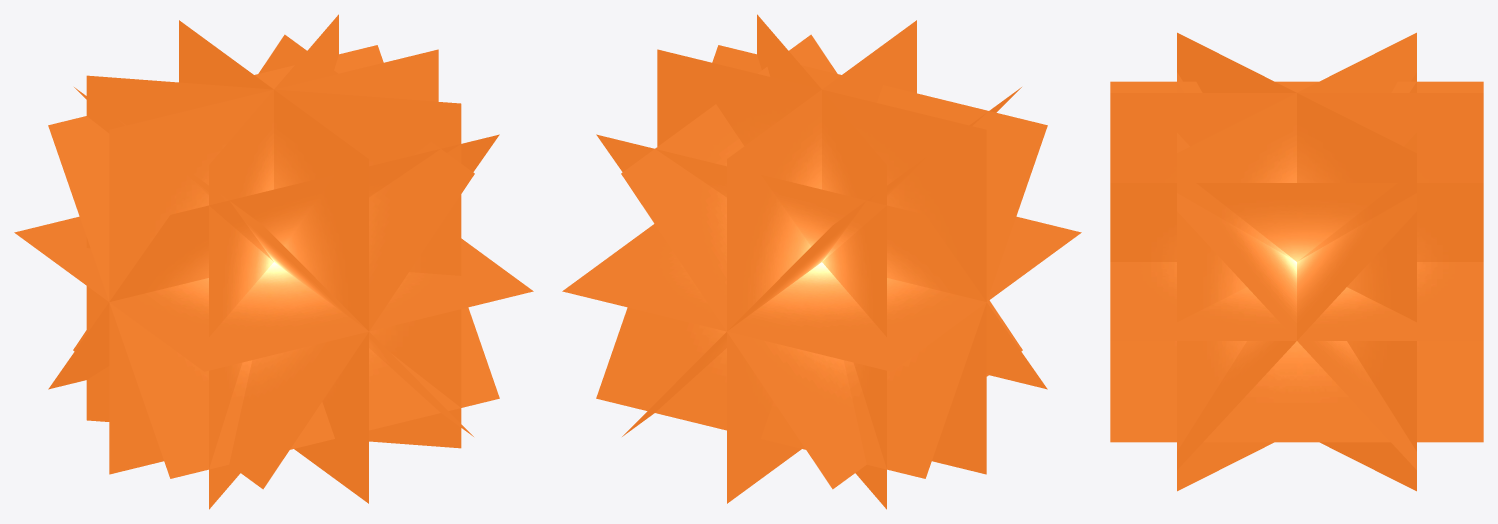
File: astro-projectile.glb
3 renders of one model, left to right at view 1: azimuth 30°, elevation 25°; view 2: azimuth 150°, elevation 25°; view 3: azimuth 270°, elevation 25°, orthographic.
Visible parts, largest first — view 1: Plane.003_3, Plane.005_5, Plane.001_1, Plane_0, Plane.002_2, Plane.007_7, Plane.004_4, Plane.006_6, Plane.008_8; view 2: Plane.006_6, Plane.001_1, Plane_0, Plane.007_7, Plane.002_2, Plane.005_5, Plane.003_3, Plane.008_8; view 3: Plane.008_8, Plane.003_3, Plane.004_4, Plane.002_2, Plane.007_7, Plane_0, Plane.005_5, Plane.006_6.
Part boxes in pixels (left/top/right/bottom): Plane.003_3: left=86, top=75, right=461, bottom=448; Plane.005_5: left=48, top=45, right=499, bottom=478; Plane.001_1: left=109, top=49, right=438, bottom=474; Plane_0: left=14, top=216, right=533, bottom=371; Plane.002_2: left=179, top=20, right=368, bottom=503; Plane.007_7: left=73, top=34, right=474, bottom=489; Plane.004_4: left=209, top=14, right=338, bottom=509; Plane.006_6: left=48, top=134, right=499, bottom=389; Plane.008_8: left=74, top=87, right=473, bottom=436; Plane.006_6: left=596, top=45, right=1047, bottom=478; Plane.001_1: left=657, top=49, right=986, bottom=474; Plane_0: left=562, top=216, right=1081, bottom=371; Plane.007_7: left=621, top=34, right=1022, bottom=489; Plane.002_2: left=727, top=20, right=916, bottom=503; Plane.005_5: left=596, top=134, right=1047, bottom=389; Plane.003_3: left=757, top=14, right=886, bottom=509; Plane.008_8: left=622, top=87, right=1021, bottom=436; Plane.008_8: left=1110, top=81, right=1483, bottom=442; Plane.003_3: left=1177, top=32, right=1416, bottom=491; Plane.004_4: left=1177, top=32, right=1416, bottom=491; Plane.002_2: left=1110, top=93, right=1483, bottom=182; Plane.007_7: left=1110, top=183, right=1483, bottom=261; Plane_0: left=1110, top=262, right=1483, bottom=340; Plane.005_5: left=1177, top=72, right=1416, bottom=469; Plane.006_6: left=1177, top=72, right=1416, bottom=469.
Bounding box in the file's own units: 2 × 2 × 2.
Materials: 1 (1 with a texture image).
